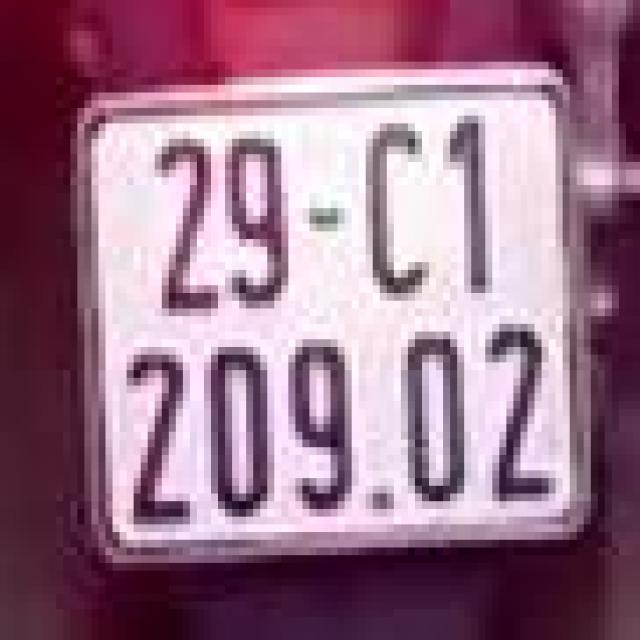0: (390, 312, 482, 513), (197, 328, 281, 528)
1: (429, 112, 506, 304)
2: (478, 308, 577, 516), (116, 336, 208, 544), (151, 131, 236, 324)
9: (285, 320, 362, 520), (221, 120, 292, 312)
C: (366, 96, 436, 297)
